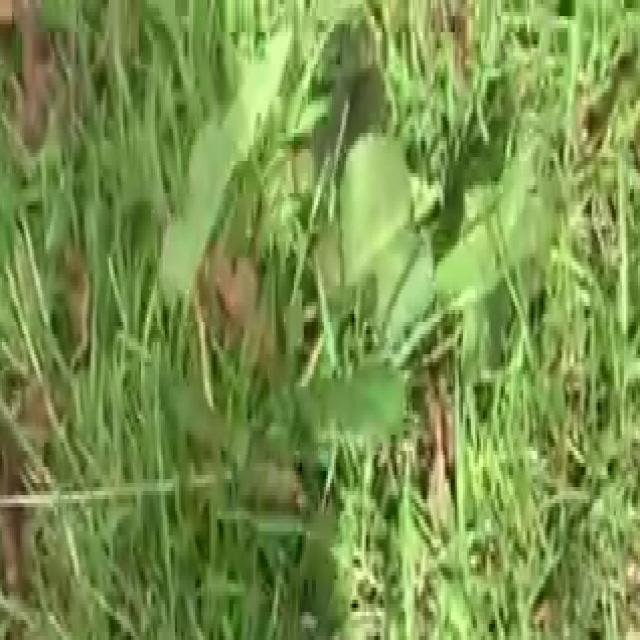organic waste: (179, 0, 586, 596)
